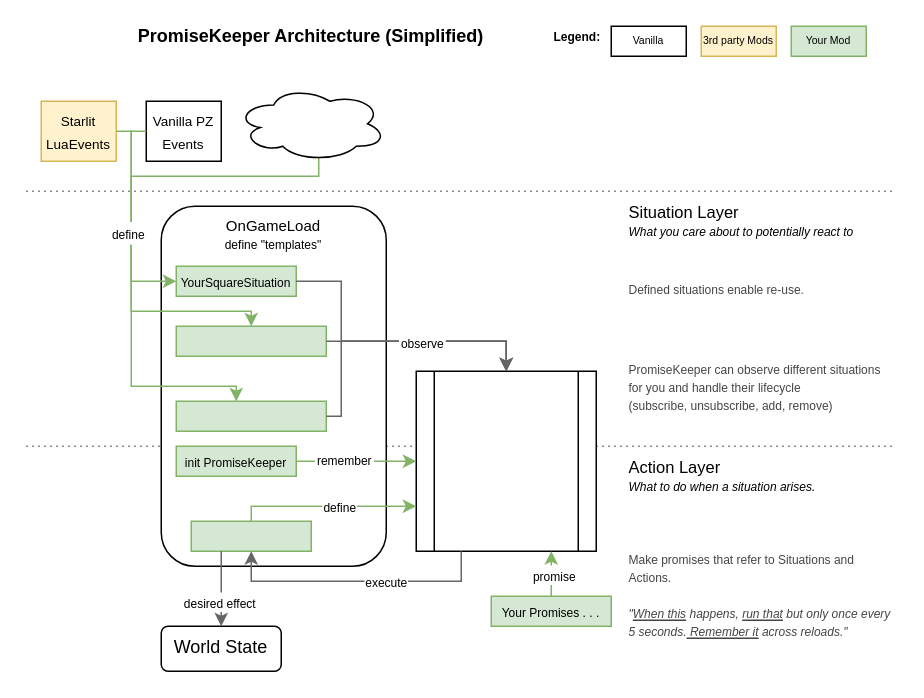
This 924x698 diagram has some shape labels left out. Here are the shapes that lost their labels. From the top down, the centre of each, then its label:
(x=310, y=123): "WorldObserver" or other
(x=250, y=340): Your Player UpdateSituation
(x=250, y=415): Your EventBased Situation
(x=505, y=460): PromiseKeeper ( durable, idempotent action scheduler )
(x=250, y=535): Your Actions . . .
